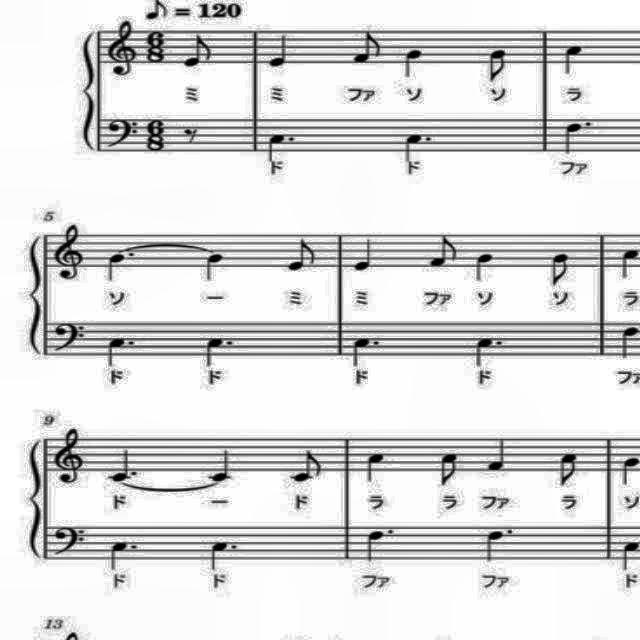Bass-clef: (51, 318, 91, 357), (103, 116, 145, 152), (50, 522, 90, 558)
Eighth-note: (286, 446, 324, 489), (348, 23, 384, 67), (285, 235, 323, 273), (426, 230, 462, 270), (181, 30, 213, 70), (484, 44, 512, 86), (438, 450, 466, 490), (556, 450, 584, 490), (550, 250, 574, 286)
Eighth-rest: (178, 124, 204, 150)
Quarter-dot: (98, 334, 144, 370), (481, 521, 517, 567), (106, 540, 146, 580), (204, 332, 242, 372), (400, 128, 440, 166), (364, 526, 401, 566), (564, 112, 596, 156), (108, 446, 142, 486), (471, 334, 509, 368), (205, 534, 239, 572), (103, 249, 137, 285), (352, 332, 384, 368), (264, 131, 300, 163)
Quarter-note: (266, 29, 294, 71), (207, 448, 236, 484), (359, 448, 388, 484), (485, 436, 511, 476), (615, 243, 640, 284), (560, 42, 588, 78), (401, 47, 432, 79), (472, 250, 501, 284), (614, 324, 640, 360), (354, 238, 378, 276), (618, 454, 640, 491), (202, 251, 228, 281), (620, 537, 640, 573), (639, 243, 640, 284)
Treble-clef: (50, 221, 90, 285), (104, 20, 144, 80), (47, 425, 85, 487)
